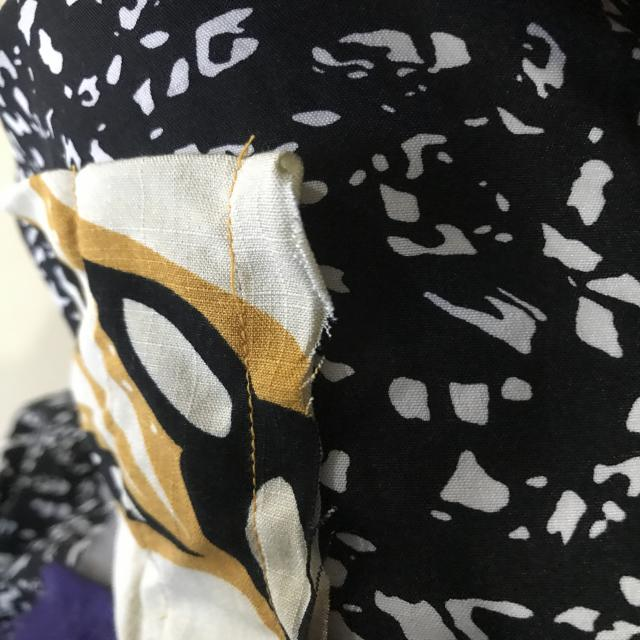skip: (222, 246, 260, 340)
